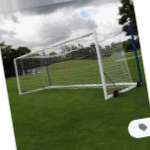goals: (13, 29, 139, 103)
